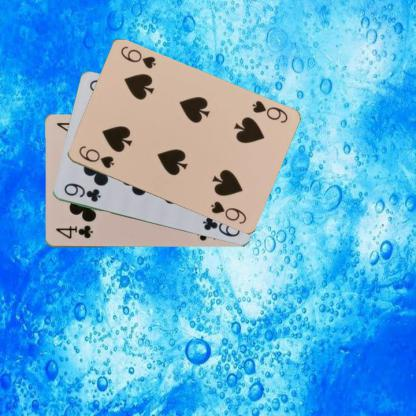4c: (53, 223, 94, 240)
6s: (76, 143, 115, 170), (249, 98, 289, 124)
9c: (61, 180, 102, 204)
